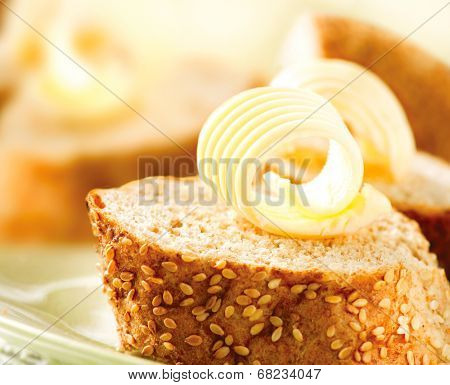slice of bread: (85, 174, 449, 367)
